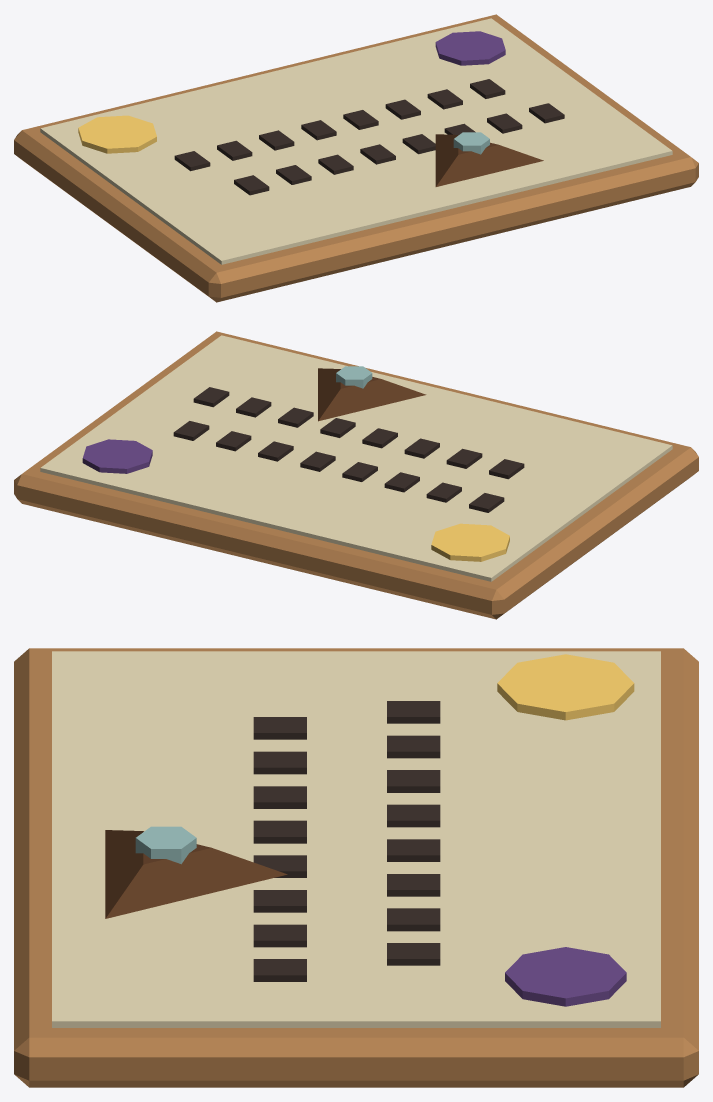
The model's file is SpiritBoard.fbx.
The picture shows the model from 3 angles, top to bottom: view 1: azimuth 30°, elevation 25°; view 2: azimuth 150°, elevation 25°; view 3: azimuth 270°, elevation 25°; orthographic projection. The views are drawn at different scales.
Visible parts, largest first — view 1: SpiritBoard; view 2: SpiritBoard; view 3: SpiritBoard.
Part boxes in pixels (x1=…): SpiritBoard: x1=14, y1=14, x2=698, y2=302; SpiritBoard: x1=14, y1=331, x2=698, y2=619; SpiritBoard: x1=14, y1=648, x2=698, y2=1087.
Size of the model in its own units: 2.5 by 0.3 by 1.8.
